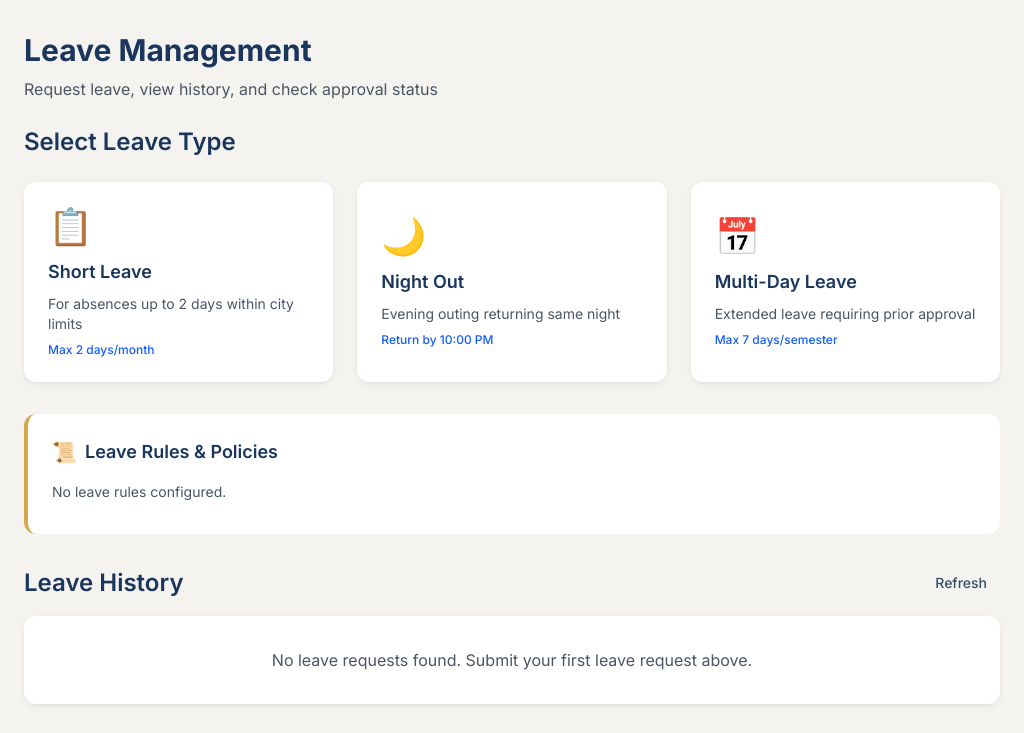
Task 18.1 - Student Leave Request & History › Leave Type Selection › should open form when leave type is selected
The image size is (1024, 733).
Click the button that starts with "Short Leave": (70, 226) [24, 182, 333, 382]
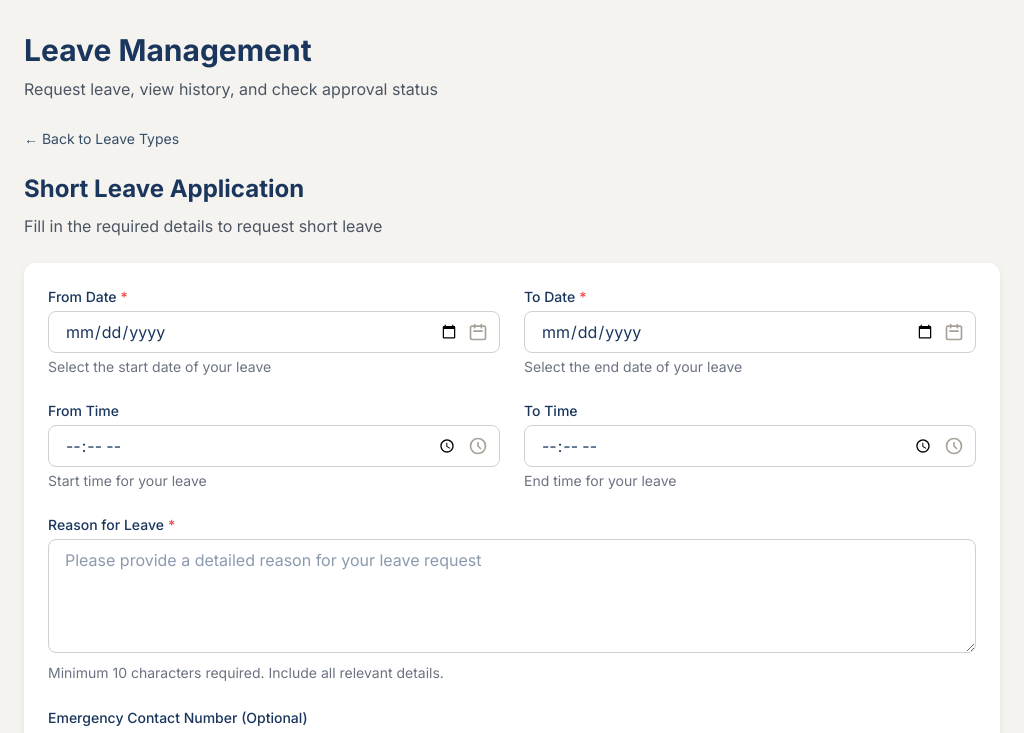
Result: the date field labelled "From Date*" is shown at [48, 311, 500, 353]
